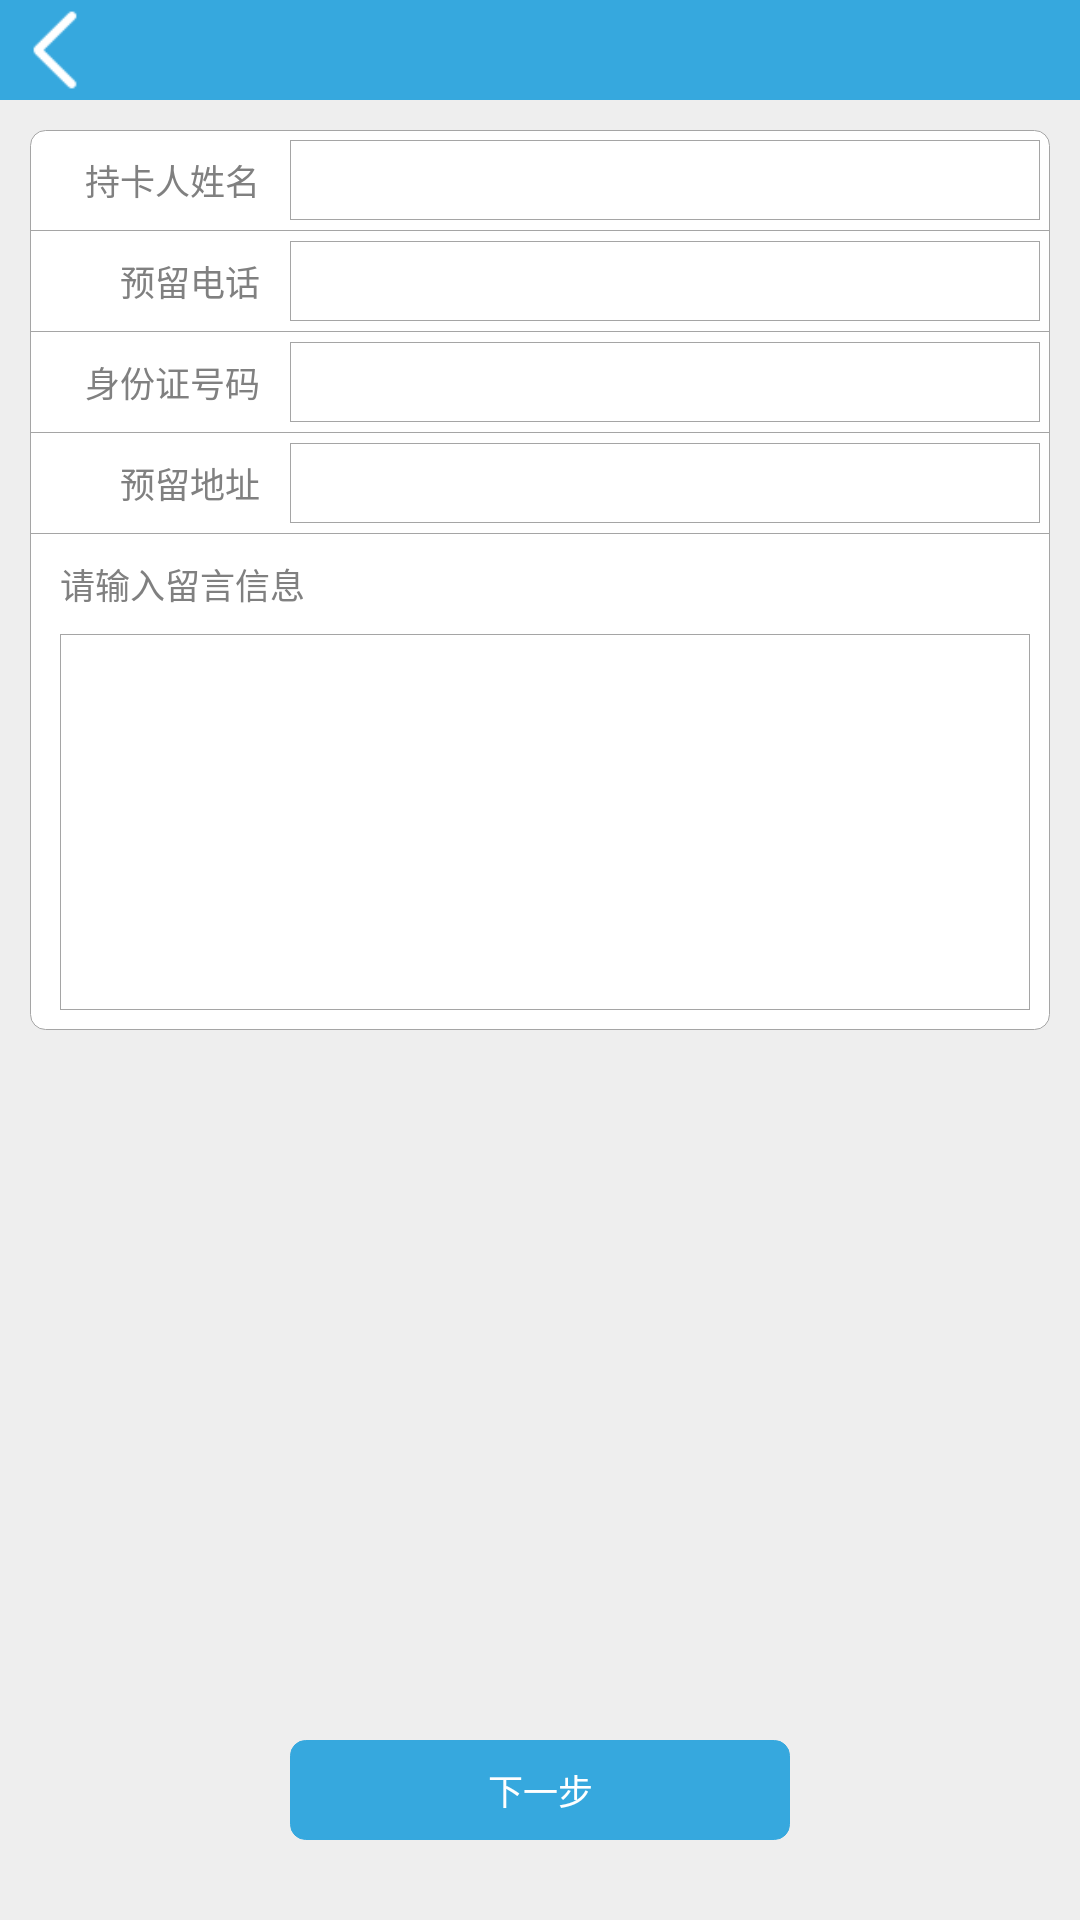

Icons on this 1080w x 1920h Android screen, each with its box as {"x1": x1, "y1": y1, "x2": x2, "y2": y2}:
leftarrowicon: {"x1": 33, "y1": 11, "x2": 77, "y2": 89}
